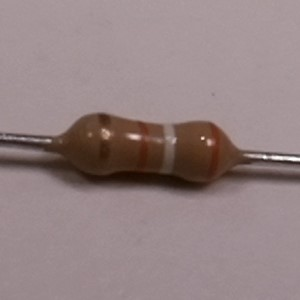gold_band: (93, 110, 114, 179)
orange_band: (203, 119, 223, 185), (130, 118, 152, 176)
white_band: (157, 121, 179, 177)
